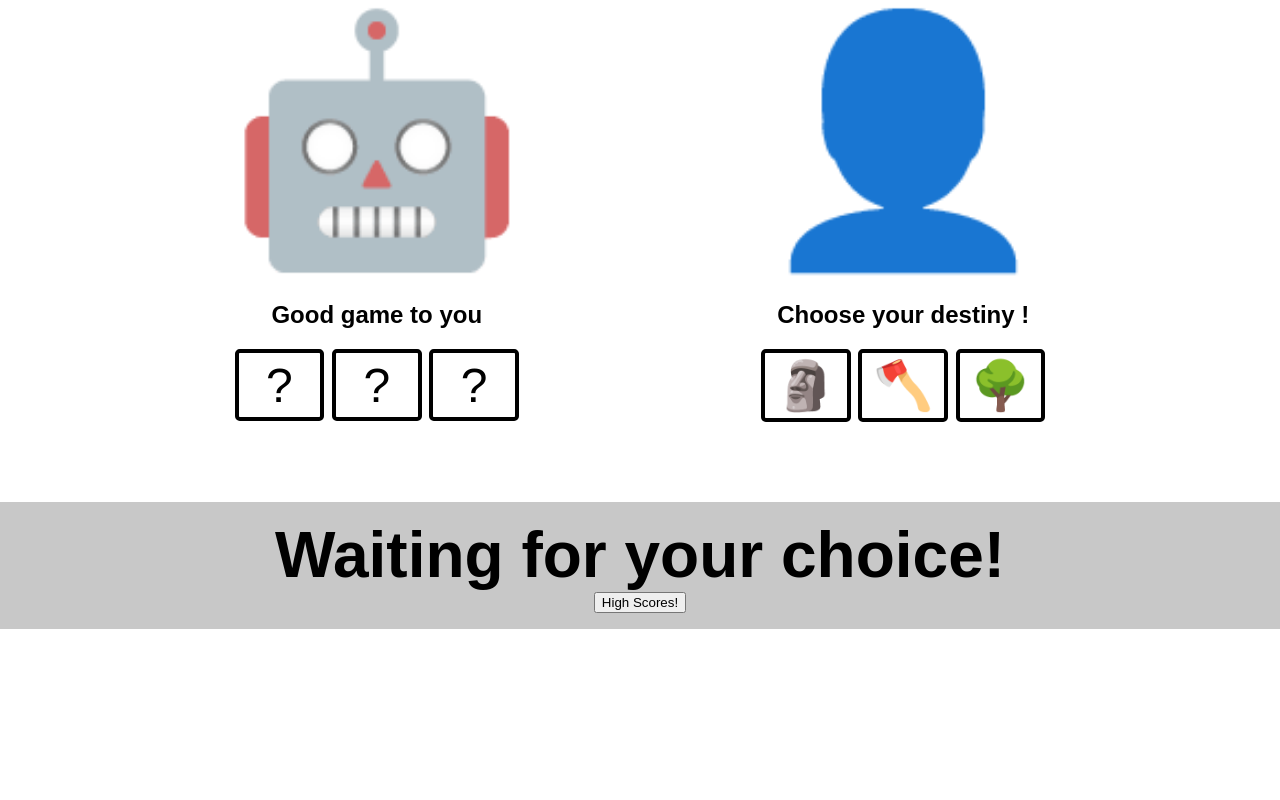
Testing for computer selection › check if the robot can cheat, and beat player
// Activate cheat mode
Click the picture with test id "robot-icon" at (377, 139), box [227,5,526,273]
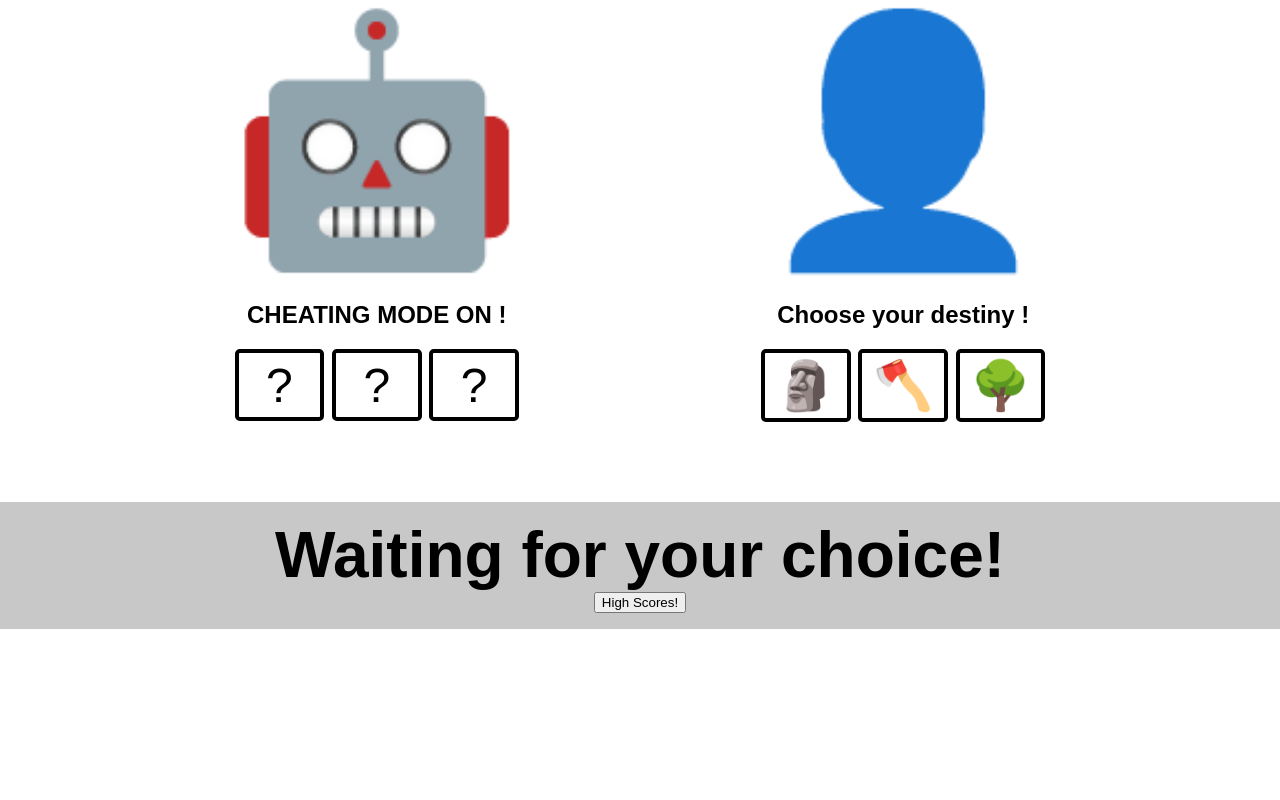
Expected: the picture with test id "robot-icon" has class "cheating", [227,5,526,273]
// Player to make a selection
Click the button with test id "Moai" at (806, 386), box [761,349,851,422]
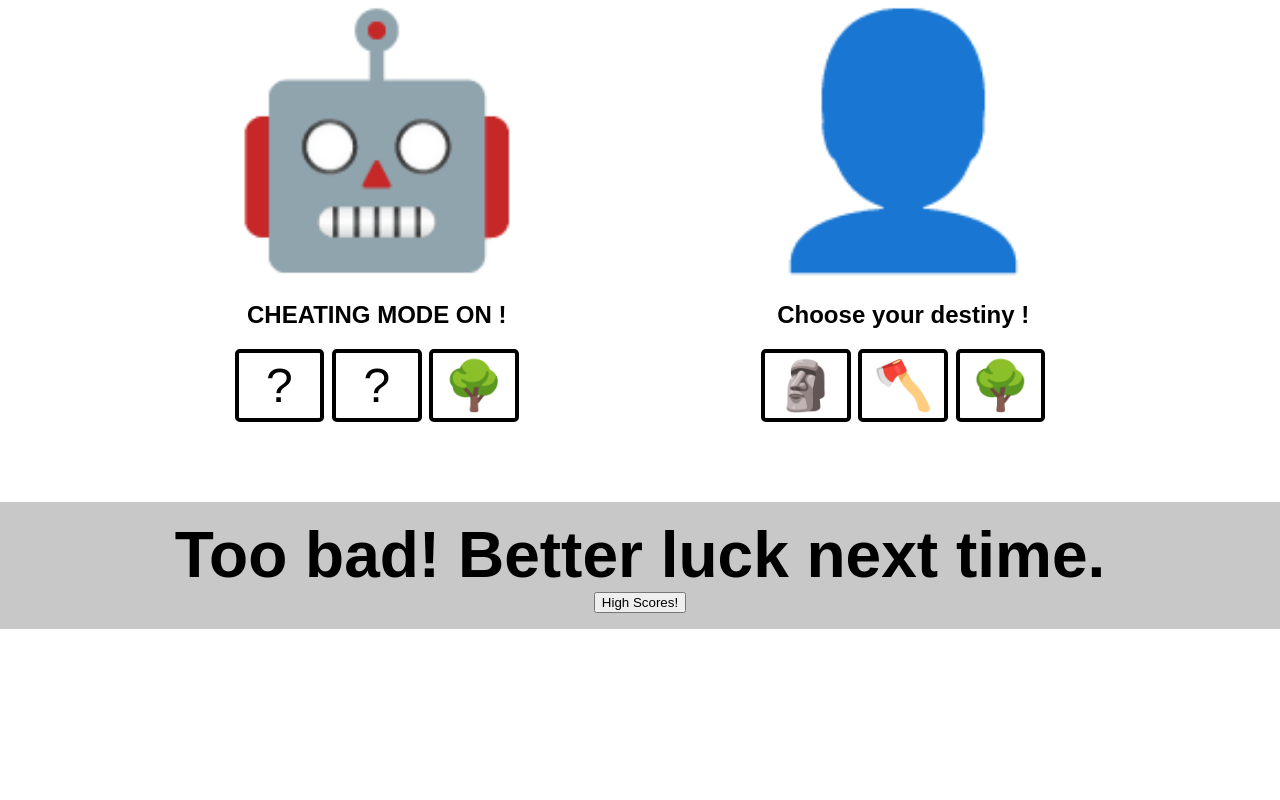
Expected: the heading with test id "game-result" reads "Too bad! Better luck next time.", [175,519,1105,591]
